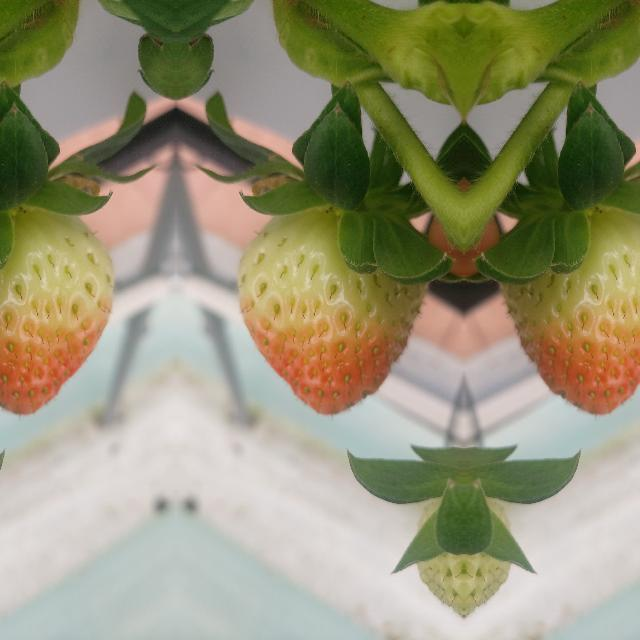Health_50: (237, 203, 427, 414), (499, 203, 640, 414), (0, 203, 113, 414)
